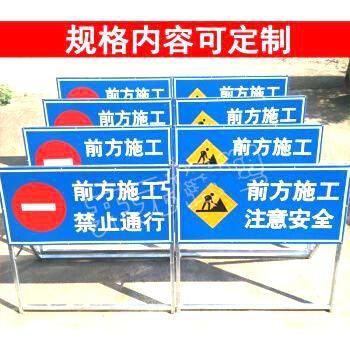sign: (176, 167, 344, 244), (2, 169, 168, 241), (23, 129, 171, 168), (176, 127, 322, 166), (43, 98, 169, 126), (175, 100, 304, 125), (58, 79, 169, 99), (175, 78, 288, 97)
